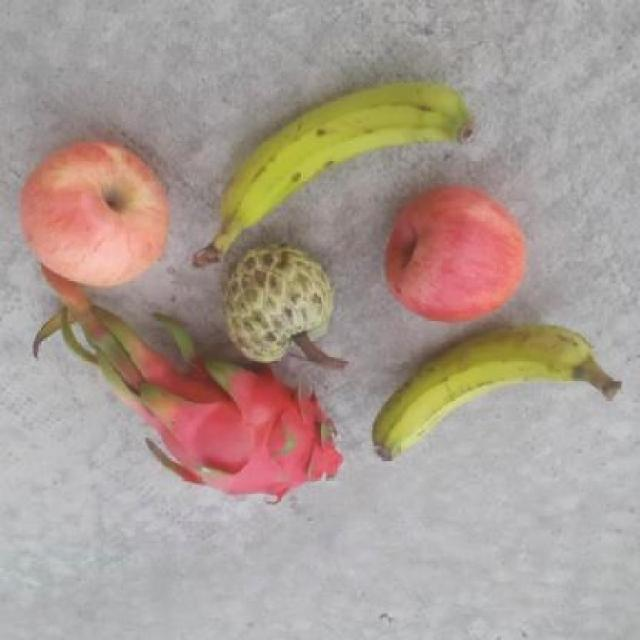apple: (11, 136, 174, 296), (381, 180, 532, 323)
banana: (191, 77, 475, 269), (372, 314, 620, 464)
dragon fruit: (140, 354, 368, 508)
sugar apple: (222, 242, 341, 369)
